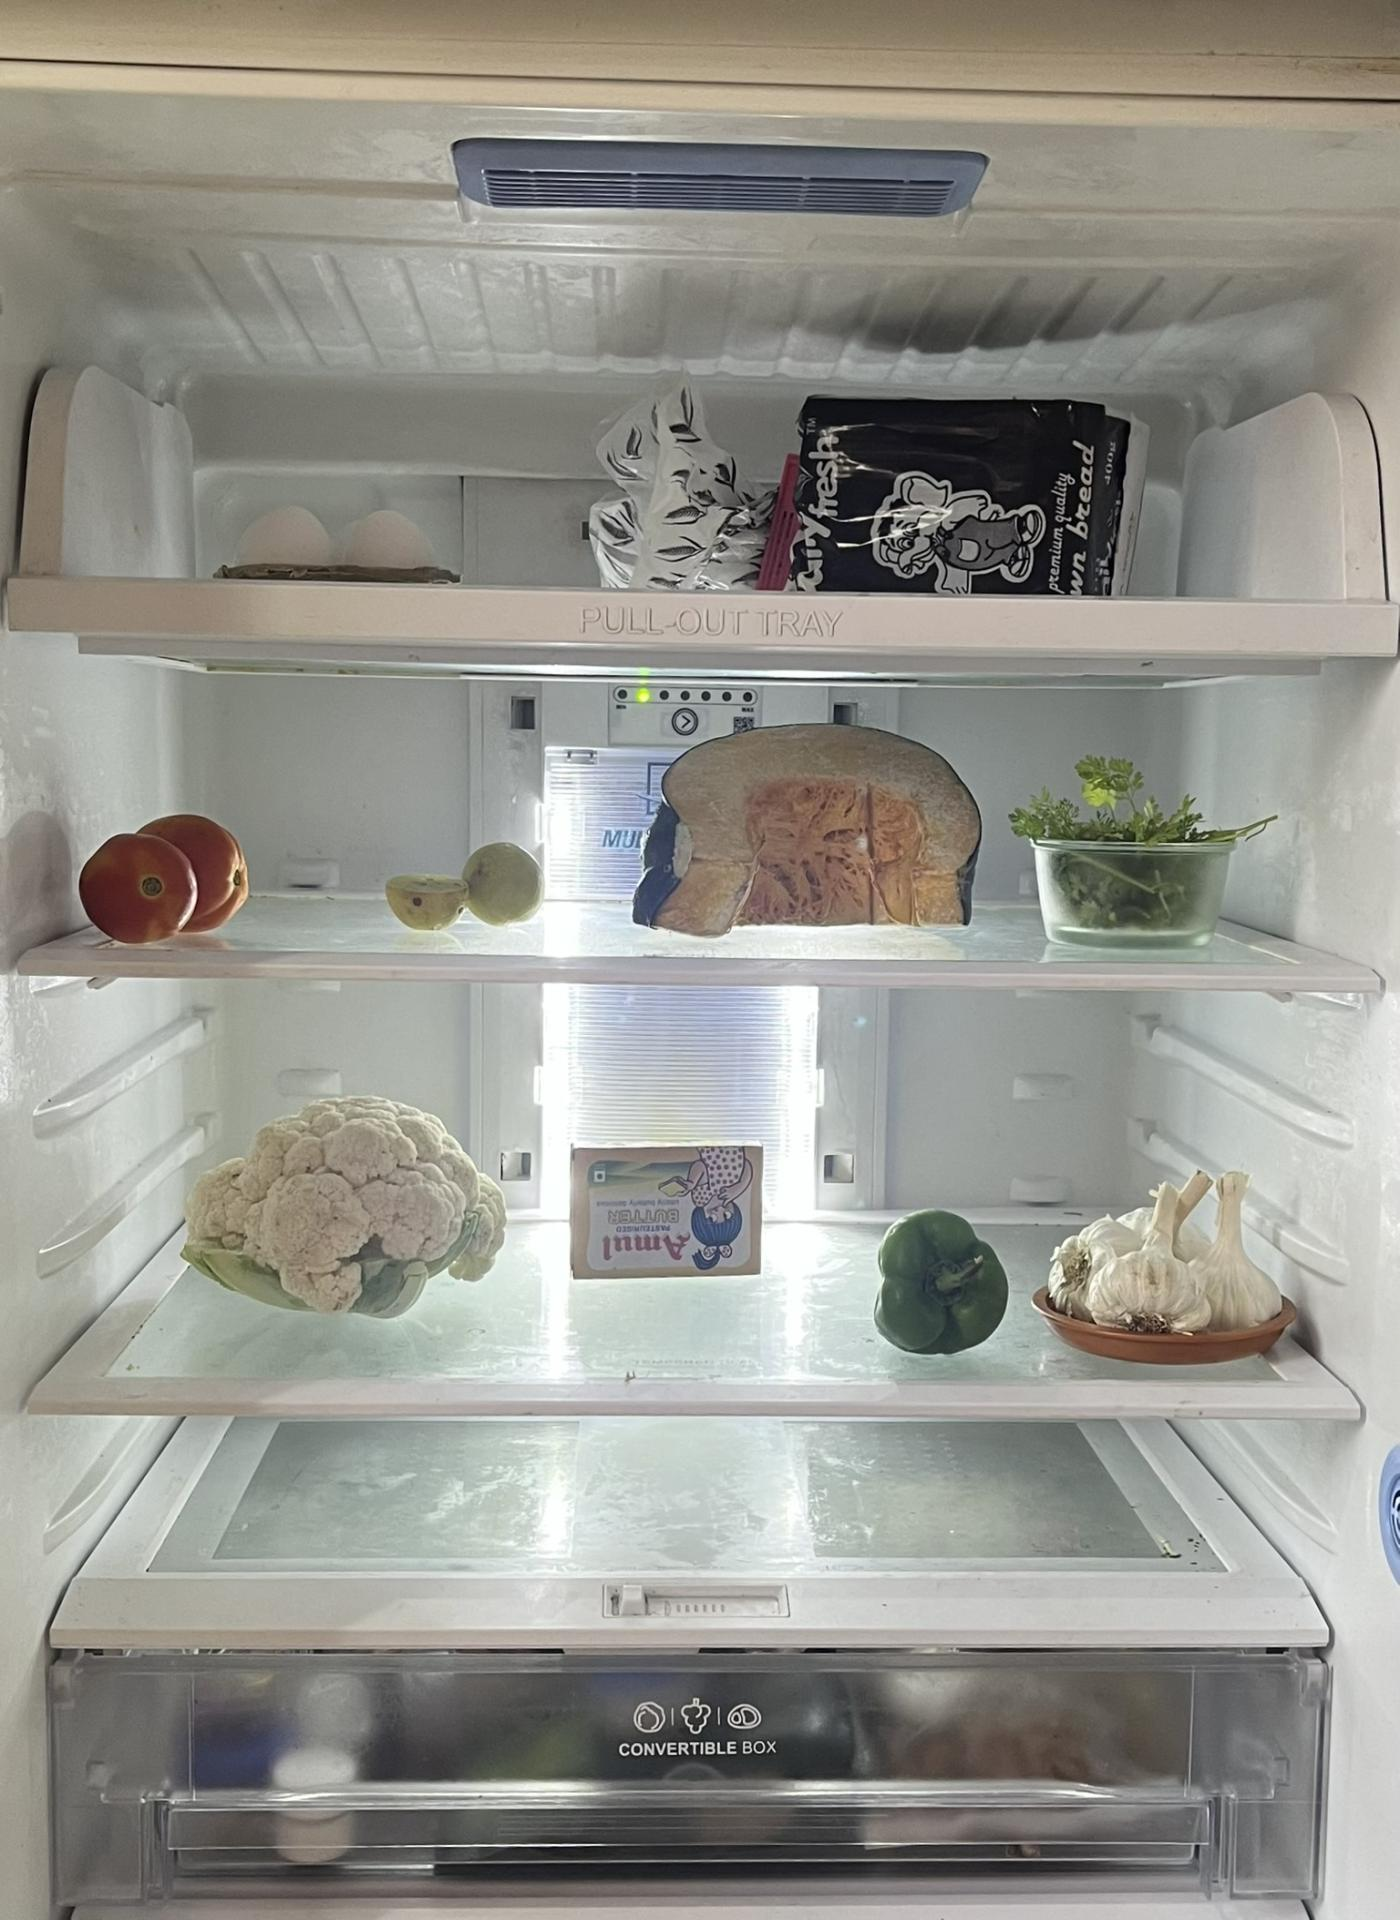bread: (584, 386, 1132, 586)
butter: (567, 1140, 763, 1283)
capsicum: (877, 1212, 1006, 1352)
cauliflower: (183, 1090, 505, 1309)
coriander: (1032, 751, 1227, 944)
egg: (243, 498, 444, 568)
garlic: (1050, 1169, 1261, 1321)
lemon: (385, 832, 547, 927)
pumpkin: (622, 723, 978, 930)
tomato: (79, 808, 256, 944)
